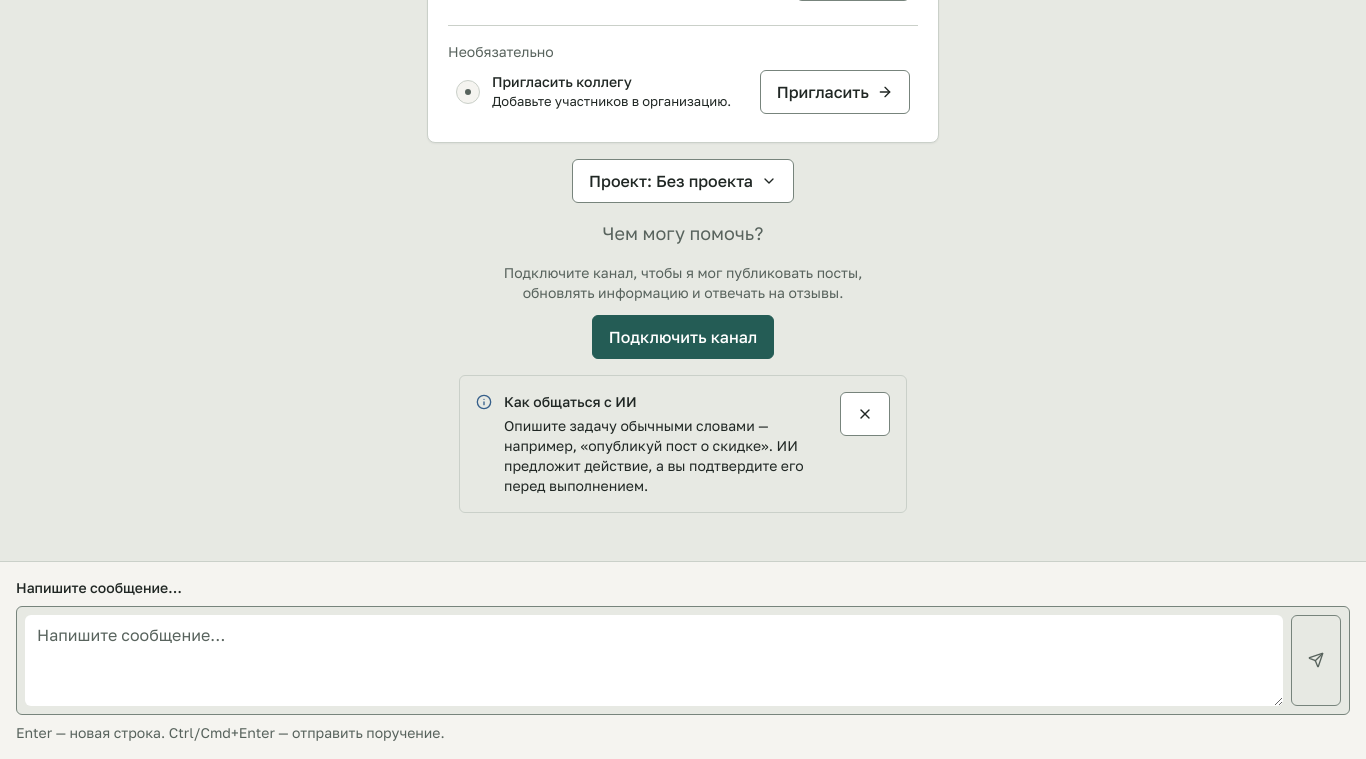
Test: clears the instruction only after successful streaming: true
(page scrolled)
Expected: the text "Чем могу помочь?" is shown, left=602, top=218, right=763, bottom=246
Type "Проверить текст" into the text box labelled "Напишите сообщение…".
click(654, 660); type("Проверить текст")  # box left=25, top=614, right=1283, bottom=706
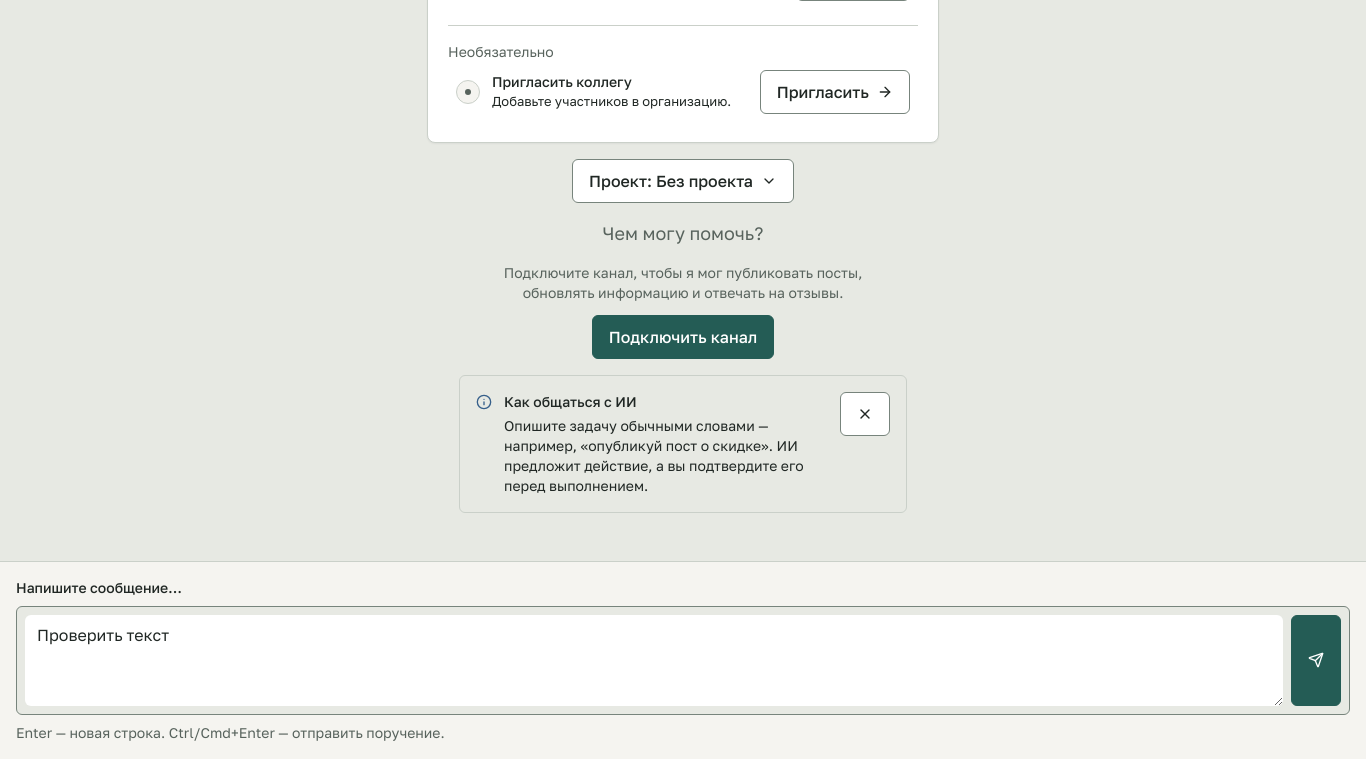
Press Enter in the text box labelled "Напишите сообщение…", box left=25, top=614, right=1283, bottom=706
(page scrolled)
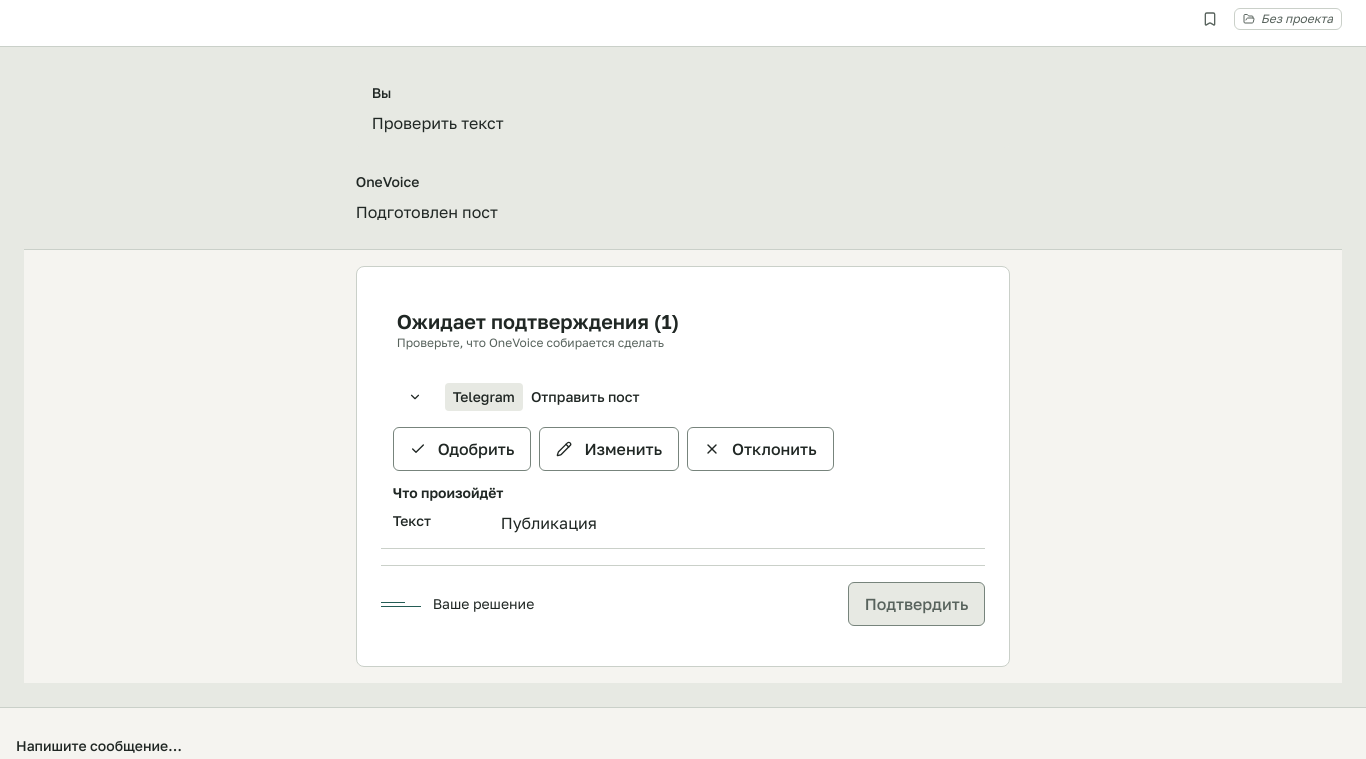
Expected: the text "Подготовлен пост" is shown, left=356, top=202, right=498, bottom=222
Expected: the element "Ожидает подтверждения" is shown, left=356, top=266, right=1010, bottom=667
